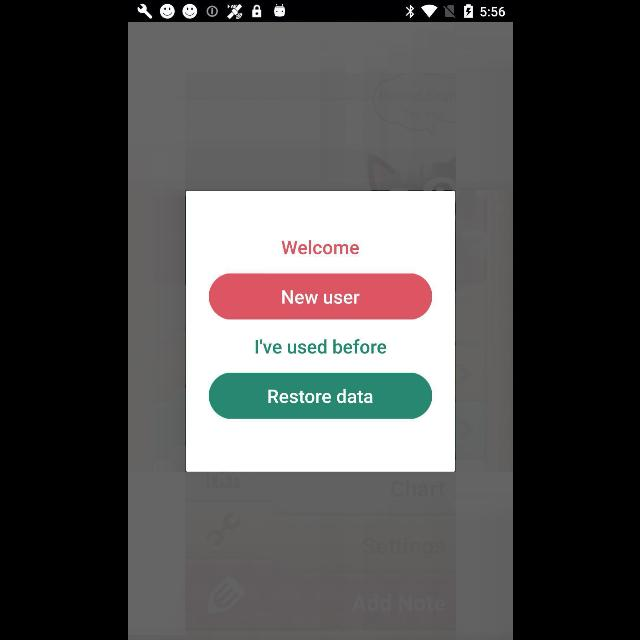panel: (186, 191, 454, 471)
text: (255, 339, 385, 353), (282, 241, 358, 255)
textbutton: (209, 373, 431, 419), (209, 274, 431, 320)
uppertaskbar: (128, 1, 512, 23)
